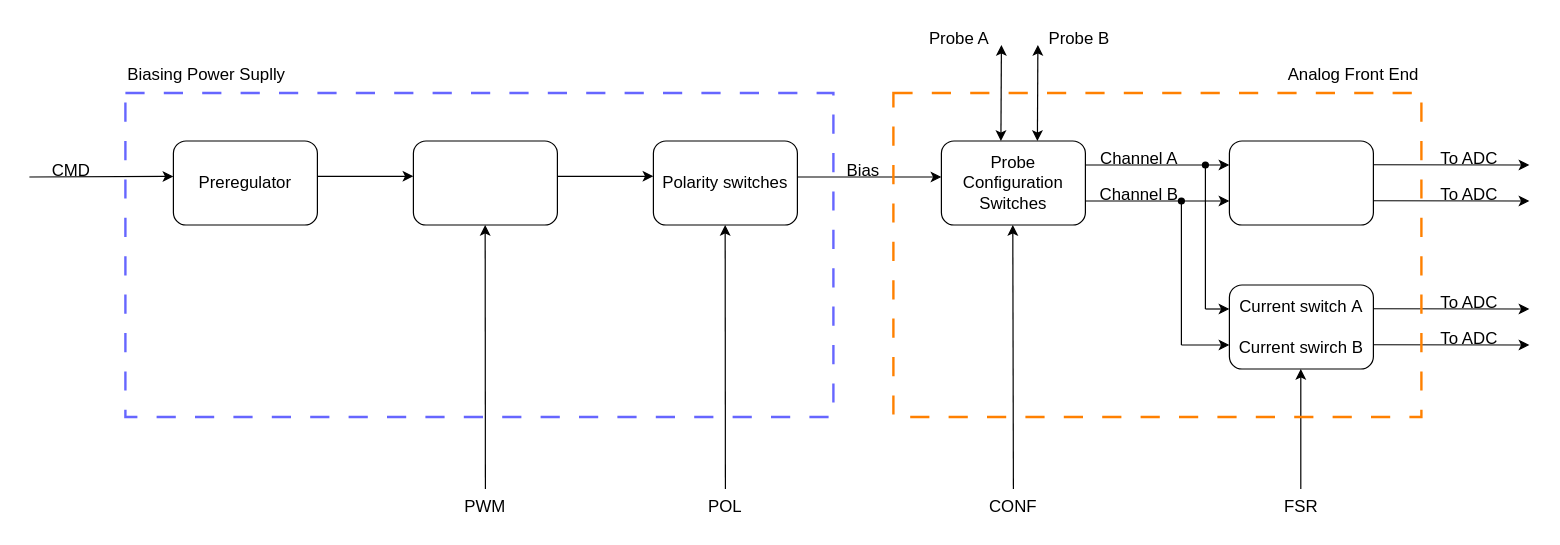
Some shapes in this 1560 by 545 pixel diagram are drawn without their labels. The centre of each missing label's shape, as x and y in pixels:
Bipolar DC-DC: (x=484, y=182)
Voltage Divider A Voltage DIvider B: (x=1300, y=182)
